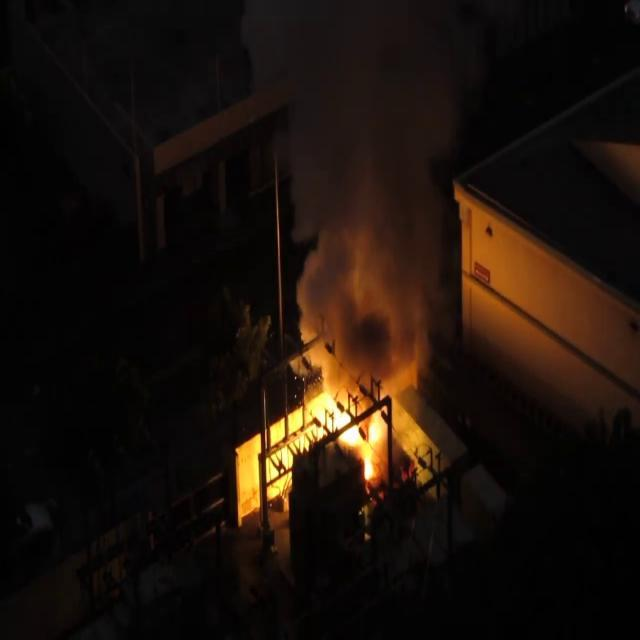Fire: (251, 367, 388, 509)
Smoke: (270, 1, 474, 362)
